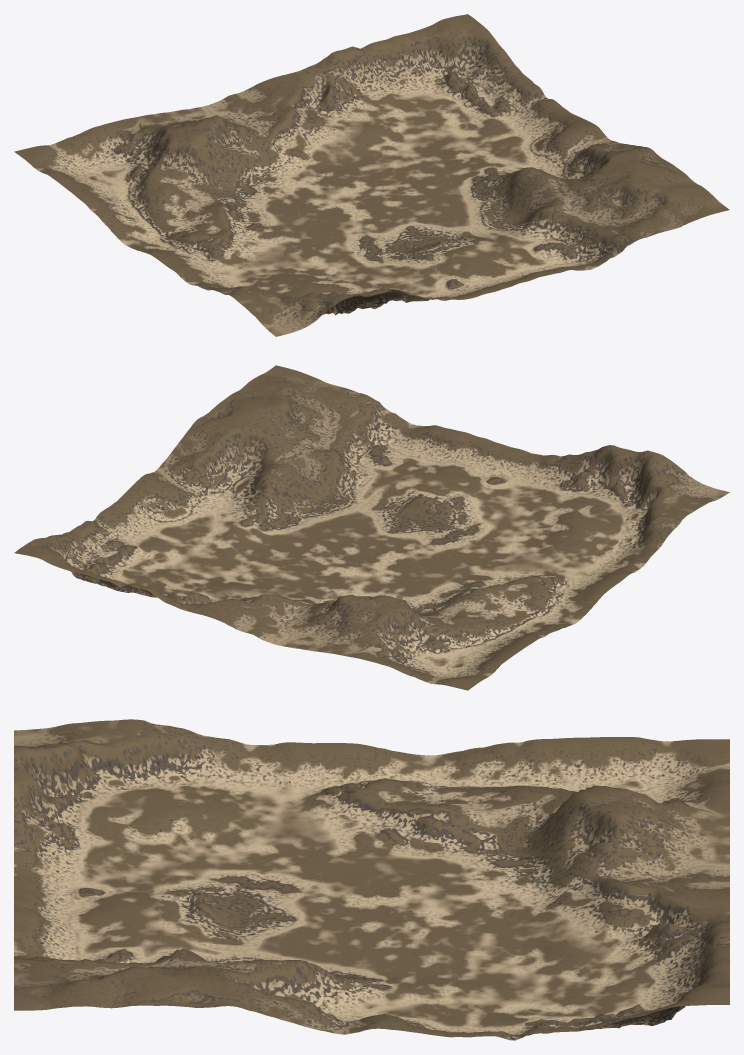
File: desert_ground.glb
3 renders of one model, top to bottom at view 1: azimuth 30°, elevation 25°; view 2: azimuth 150°, elevation 25°; view 3: azimuth 270°, elevation 25°, orthographic. The views are drawn at different scales.
Visible parts, largest first — view 1: Desert_Visual; view 2: Desert_Visual; view 3: Desert_Visual.
Part boxes in pixels (x1,y1,x2,y2): Desert_Visual: (14,14,729,336); Desert_Visual: (14,365,729,690); Desert_Visual: (14,719,729,1040).
Size of the model in its own units: 654 by 62.69 by 654.
1 material, 1 textured.
